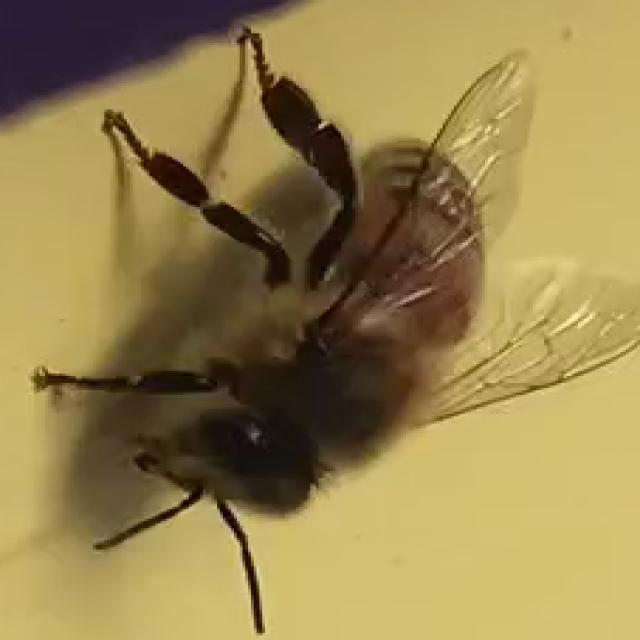honeybee: (11, 53, 622, 620)
